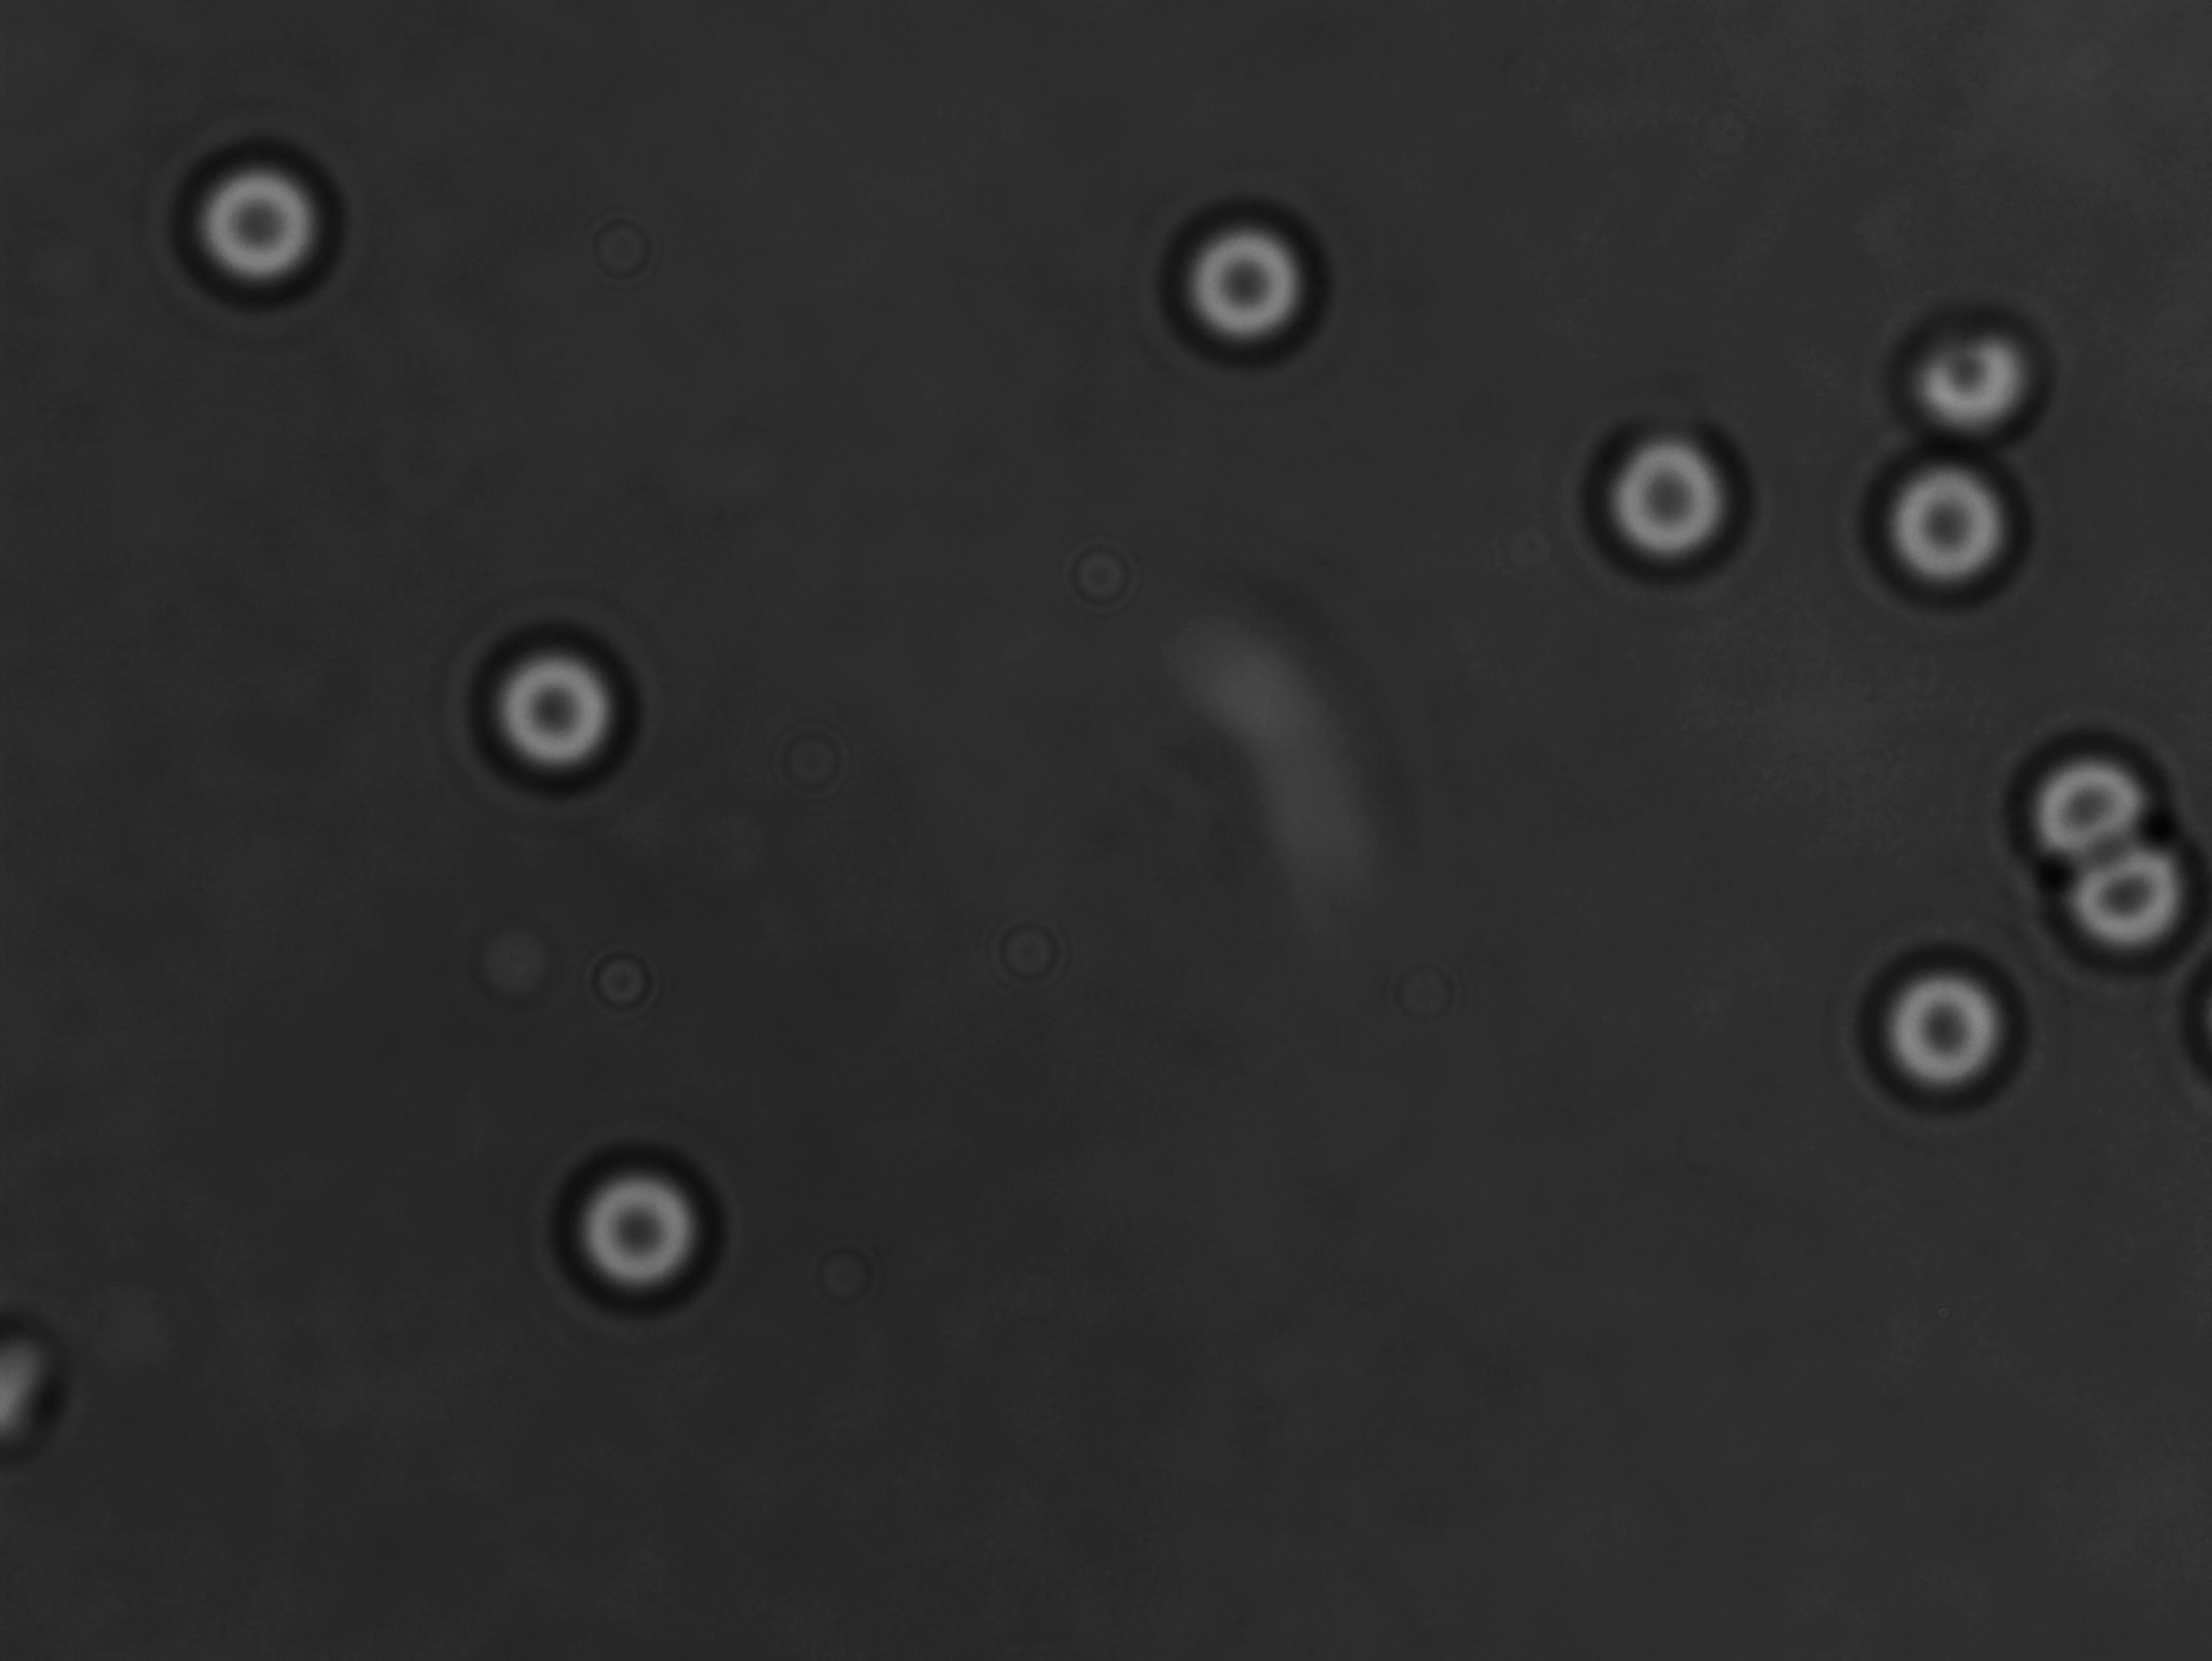depth:80: (534, 1118, 766, 1328), (1840, 419, 2074, 625), (448, 602, 673, 815), (1144, 167, 1366, 377), (1568, 387, 1786, 593), (1990, 710, 2200, 918), (159, 122, 370, 319), (1846, 926, 2050, 1108), (2048, 824, 2212, 1010)
